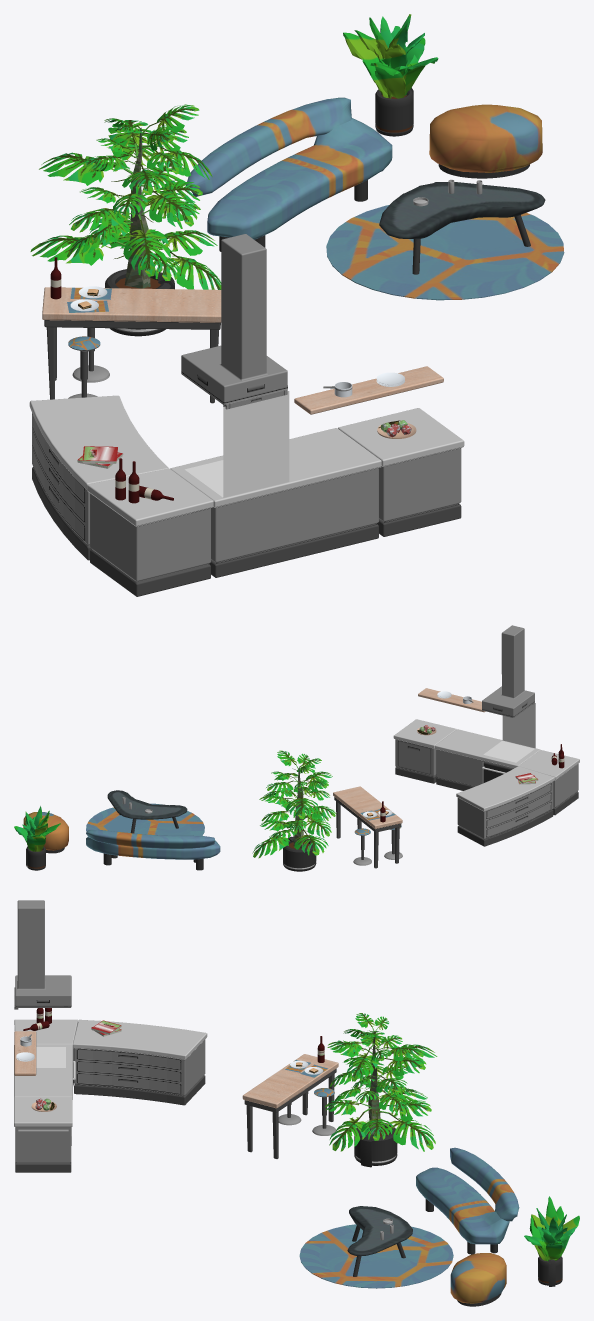
The model's file is SM_KitchenLiving.fbx.
The picture shows the model from 3 angles, top to bottom: view 1: azimuth 30°, elevation 25°; view 2: azimuth 150°, elevation 25°; view 3: azimuth 270°, elevation 25°; orthographic projection. The views are drawn at different scales.
Parts seen in each view (by area): view 1: SM_KitchenStove, SM_Couch, SM_Rug, SM_KitchenBlock.001, SM_KitchenBlock, SM_KitchenTop, SM_Refrigerator, SM_Poof, SM_KitchenBlock.002, T_Panels.002, SM_Table, SM_Plant_Livingroom (+15 smaller); view 2: SM_KitchenBlock, SM_KitchenStove, SM_Couch, SM_KitchenTop, SM_Refrigerator, SM_Rug, SM_KitchenBlock.002, SM_KitchenBlock.001, T_Panels.002, SM_Table, SM_Plant_Livingroom, SM_Tree_Livingroom.001 (+6 smaller); view 3: SM_KitchenBlock, SM_Rug, SM_Couch, SM_Refrigerator, SM_KitchenTop, SM_KitchenBlock.002, SM_Poof, SM_Plant_Livingroom, SM_Table, SM_KitchenStove, SM_Tree_Livingroom.001, T_Plants_D.001 (+9 smaller).
Part boxes in pixels (x1=…): SM_KitchenStove: x1=170, y1=428, x2=381, y2=577; SM_Couch: x1=185, y1=97, x2=392, y2=251; SM_Rug: x1=326, y1=205, x2=564, y2=300; SM_KitchenBlock.001: x1=87, y1=468, x2=213, y2=596; SM_KitchenBlock: x1=29, y1=395, x2=168, y2=560; SM_KitchenTop: x1=181, y1=234, x2=287, y2=405; SM_Refrigerator: x1=338, y1=408, x2=464, y2=536; SM_Poof: x1=429, y1=104, x2=542, y2=178; SM_KitchenBlock.002: x1=42, y1=287, x2=221, y2=403; T_Panels.002: x1=185, y1=391, x2=289, y2=497; SM_Table: x1=379, y1=182, x2=545, y2=274; SM_Plant_Livingroom: x1=343, y1=14, x2=438, y2=136; SM_KitchenBlock: x1=456, y1=766, x2=554, y2=846; SM_KitchenStove: x1=435, y1=729, x2=540, y2=790; SM_Couch: x1=86, y1=829, x2=220, y2=870; SM_KitchenTop: x1=482, y1=625, x2=534, y2=717; SM_Refrigerator: x1=393, y1=719, x2=456, y2=783; SM_Rug: x1=86, y1=803, x2=204, y2=835; SM_KitchenBlock.002: x1=333, y1=786, x2=402, y2=868; SM_KitchenBlock.001: x1=518, y1=750, x2=579, y2=815; T_Panels.002: x1=483, y1=703, x2=535, y2=762; SM_Table: x1=107, y1=790, x2=187, y2=833; SM_Plant_Livingroom: x1=14, y1=806, x2=60, y2=870; SM_Tree_Livingroom.001: x1=283, y1=766, x2=316, y2=871; SM_KitchenBlock: x1=73, y1=1019, x2=207, y2=1105; SM_Rug: x1=299, y1=1224, x2=453, y2=1288; SM_Couch: x1=416, y1=1147, x2=519, y2=1254; SM_Refrigerator: x1=14, y1=1097, x2=72, y2=1172; SM_KitchenTop: x1=15, y1=900, x2=71, y2=1007; SM_KitchenBlock.002: x1=242, y1=1054, x2=338, y2=1158; SM_Poof: x1=450, y1=1253, x2=506, y2=1306; SM_Plant_Livingroom: x1=524, y1=1196, x2=579, y2=1286; SM_Table: x1=347, y1=1206, x2=412, y2=1276; SM_KitchenStove: x1=14, y1=1044, x2=72, y2=1145; SM_Tree_Livingroom.001: x1=354, y1=1031, x2=397, y2=1167; T_Plants_D.001: x1=361, y1=1110, x2=435, y2=1151.
Bounding box in the file's own units: 9.09 × 3.65 × 9.07.
